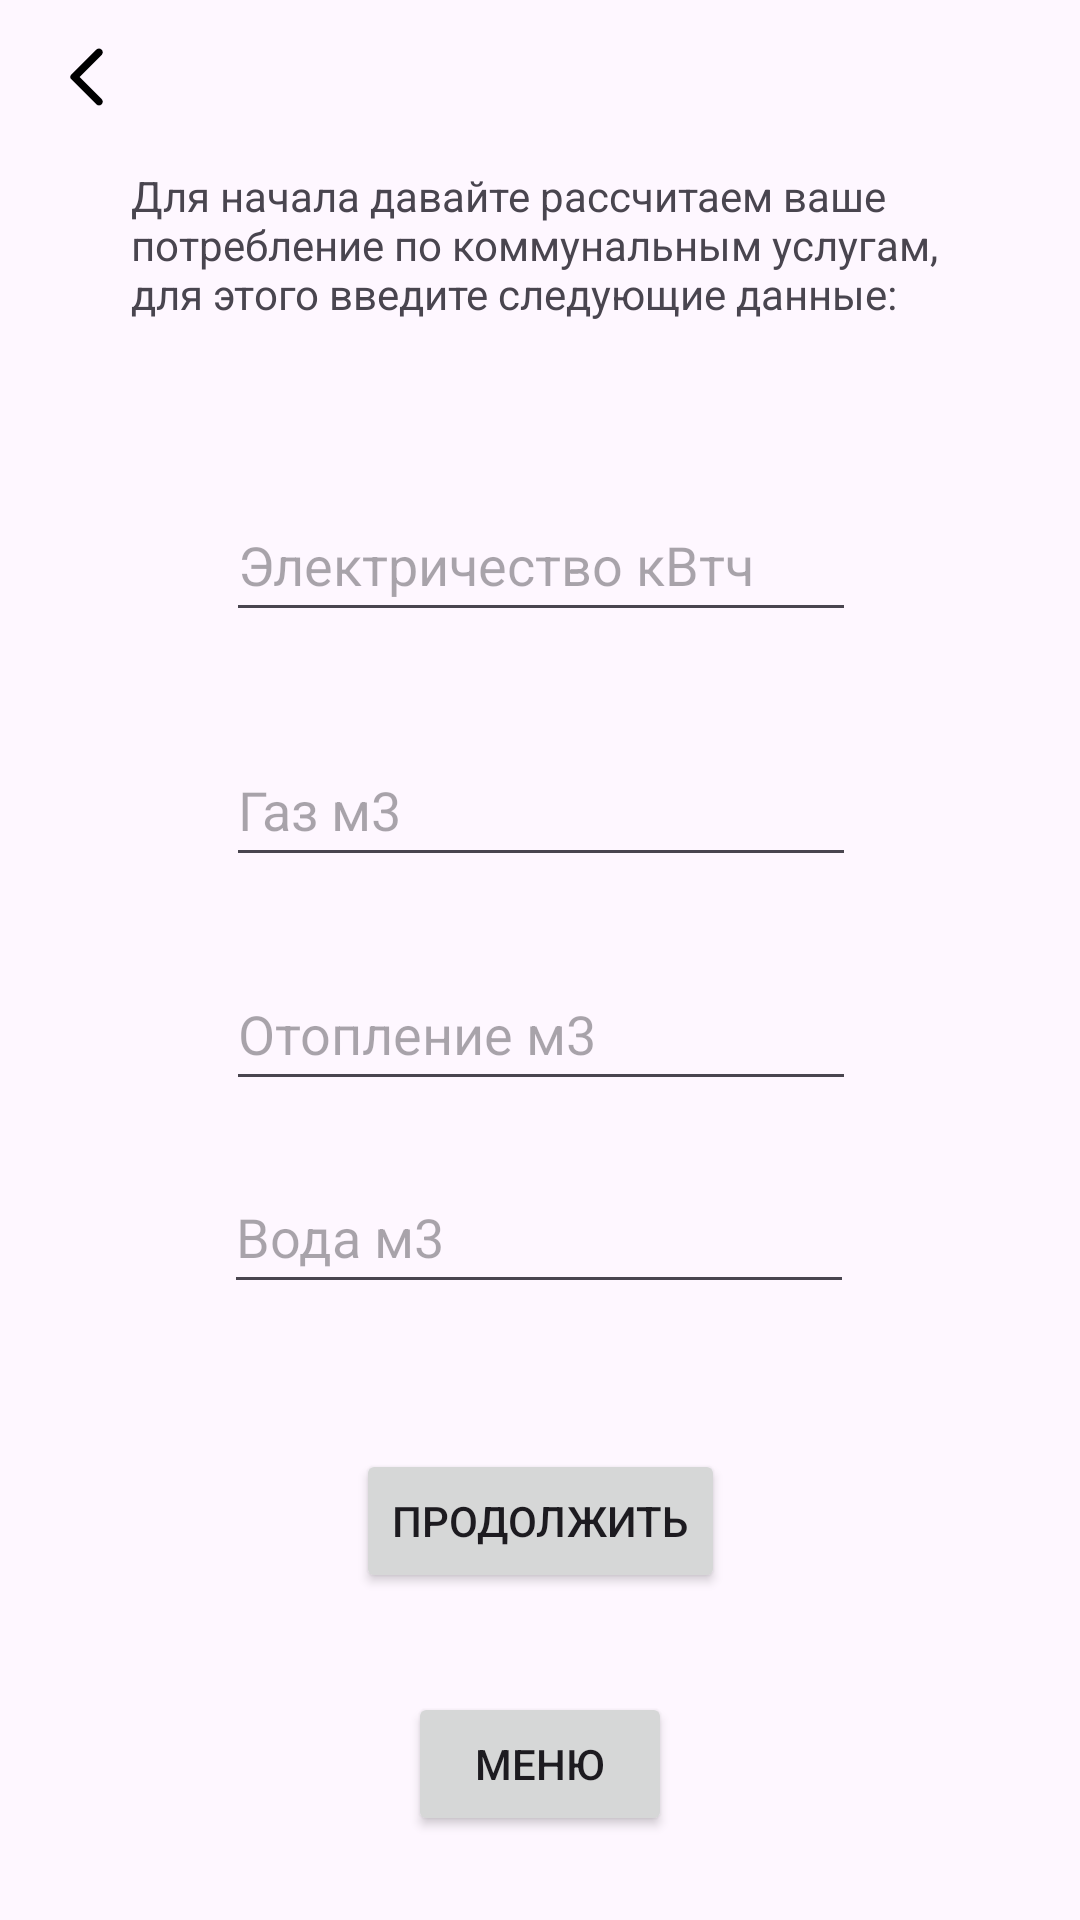

Screen size 1080*1920. Icon name, then its box in pixels as (x1, y1, x2, y2):
back: (70, 48, 103, 106)
